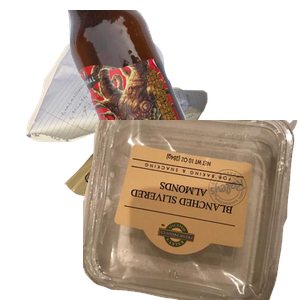glass: (65, 10, 300, 190)
paper: (23, 40, 223, 180)
plastic: (83, 120, 300, 300)
trash: (61, 127, 260, 300)
